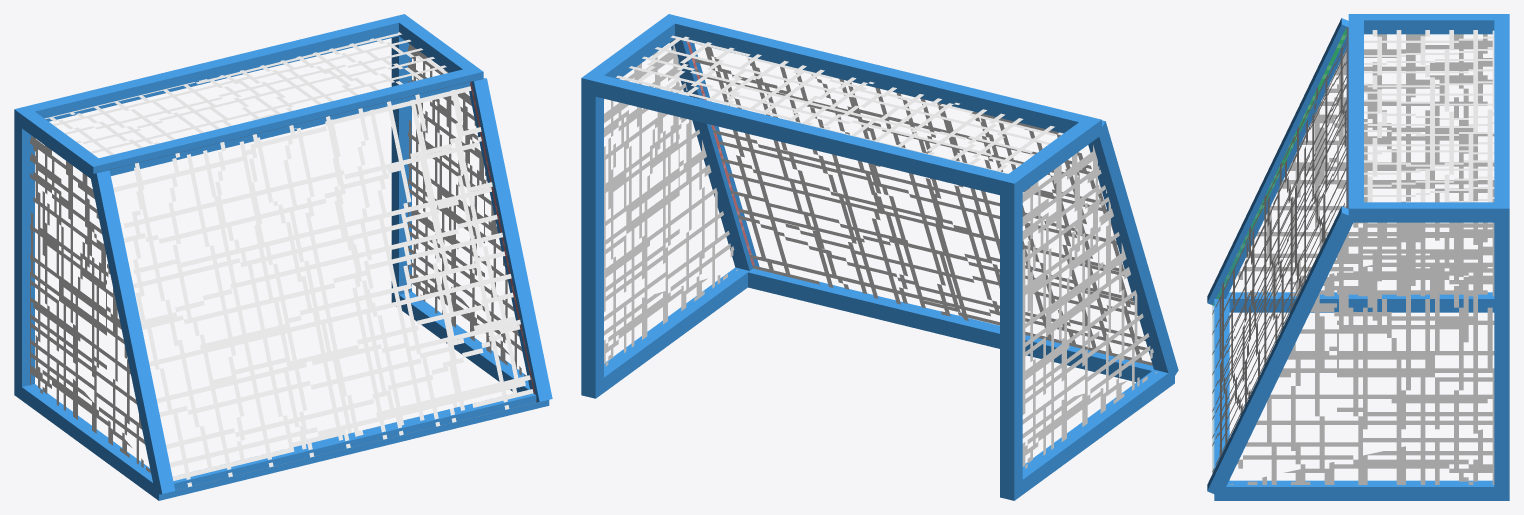
The model's file is hockey-goal-blue.gltf.
The picture shows the model from 3 angles, left to right: view 1: azimuth 30°, elevation 25°; view 2: azimuth 150°, elevation 25°; view 3: azimuth 270°, elevation 25°; orthographic projection. The views are drawn at different scales.
Parts seen in each view (by area): view 1: obj13, cuboid (×3), obj3, obj9, obj10, obj6, obj11, obj1, obj4, obj2, obj5, obj7 (+1 smaller); view 2: cuboid (×3), obj13, obj3, obj9, obj6, obj1, obj2, obj10, obj4, obj5, obj11, obj7 (+1 smaller); view 3: cuboid (×3), obj13, obj11, obj5, obj10, obj2, obj3, obj4, obj8, obj9, obj7, obj6.
Boxes of the visible parts, <box> form: obj13: <box>107,81,536,490</box>; cuboid (×3): <box>30,32,525,472</box>; obj3: <box>14,14,411,127</box>; obj9: <box>99,69,470,175</box>; obj10: <box>91,170,175,494</box>; obj6: <box>172,393,536,497</box>; obj11: <box>469,78,552,402</box>; obj1: <box>14,123,34,400</box>; obj4: <box>18,384,171,500</box>; obj2: <box>391,36,411,306</box>; obj5: <box>399,292,549,408</box>; obj7: <box>18,109,106,180</box>; cuboid (×3): <box>604,35,1157,468</box>; obj13: <box>687,41,1152,365</box>; obj3: <box>581,72,1022,198</box>; obj9: <box>675,17,1086,133</box>; obj6: <box>748,268,1153,382</box>; obj1: <box>1000,193,1022,500</box>; obj2: <box>581,93,603,398</box>; obj10: <box>1088,120,1178,381</box>; obj4: <box>1018,369,1174,497</box>; obj5: <box>600,267,749,395</box>; obj11: <box>669,39,759,270</box>; obj7: <box>1006,116,1101,195</box>; cuboid (×3): <box>1229,30,1494,484</box>; obj13: <box>1212,27,1348,473</box>; obj11: <box>1207,206,1354,493</box>; obj5: <box>1214,480,1501,500</box>; obj10: <box>1207,18,1348,305</box>; obj2: <box>1494,222,1509,500</box>; obj3: <box>1494,14,1509,222</box>; obj4: <box>1226,292,1494,312</box>; obj8: <box>1348,202,1501,222</box>; obj9: <box>1348,20,1363,202</box>; obj7: <box>1348,14,1501,34</box>; obj6: <box>1214,299,1229,480</box>.
Size of the model in its own units: 6 by 4.2 by 3.94.
Materials: 4 (4 with a texture image).
